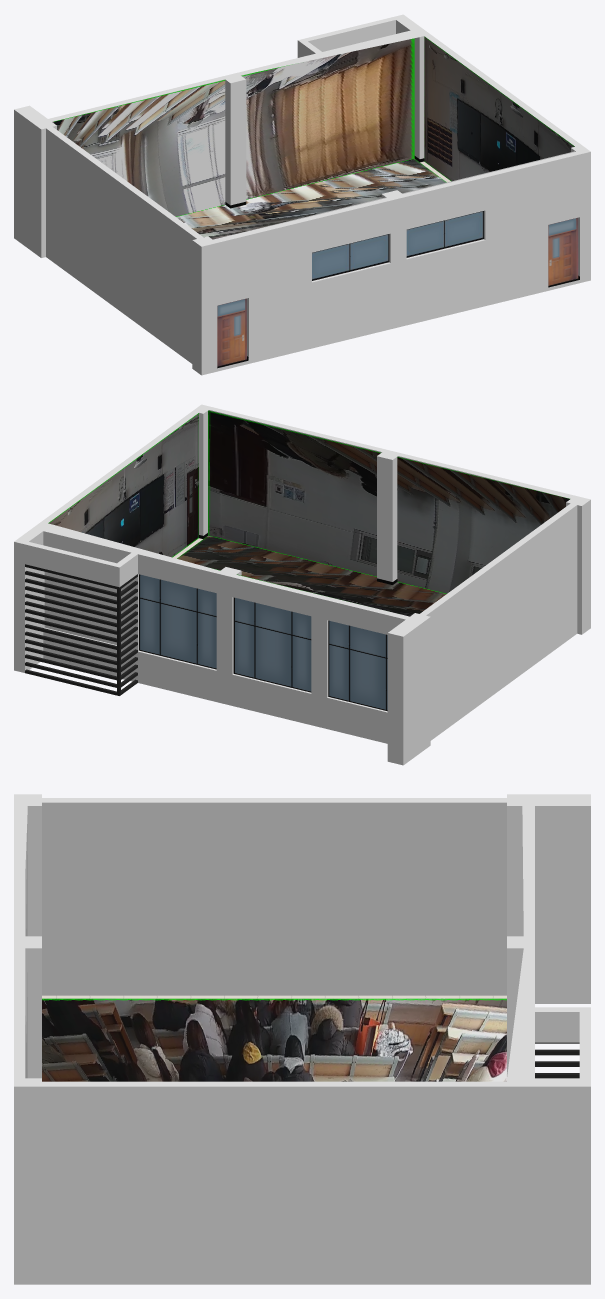
Rendered from room_textured.glb.
The picture shows the model from 3 angles, top to bottom: view 1: azimuth 30°, elevation 25°; view 2: azimuth 150°, elevation 25°; view 3: azimuth 270°, elevation 25°; orthographic projection. The views are drawn at different scales.
Parts seen in each view (by area): view 1: 306-308; view 2: 306-308; view 3: 306-308.
Boxes of the visible parts, <box> form: 306-308: <box>14,14,590,375</box>; 306-308: <box>14,404,590,765</box>; 306-308: <box>14,794,590,1284</box>.
Bounding box in the file's own units: 12.35 × 3.9 × 10.3.
Materials: 12 (11 with a texture image).
